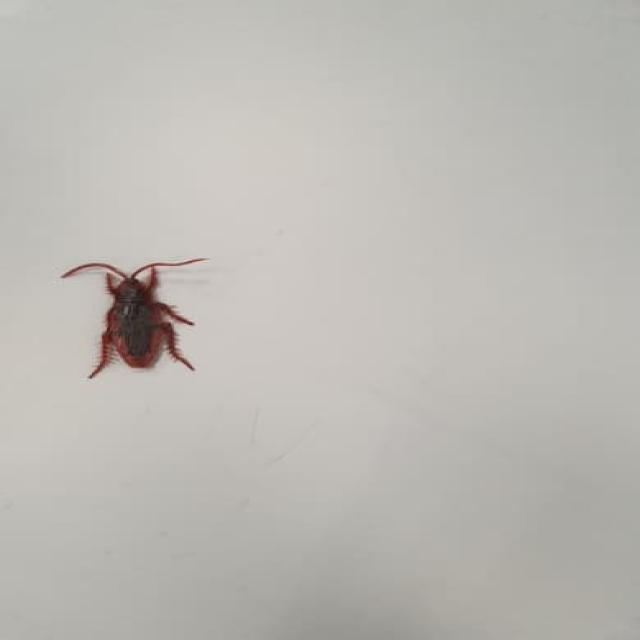Cockroach: (49, 246, 215, 379)
